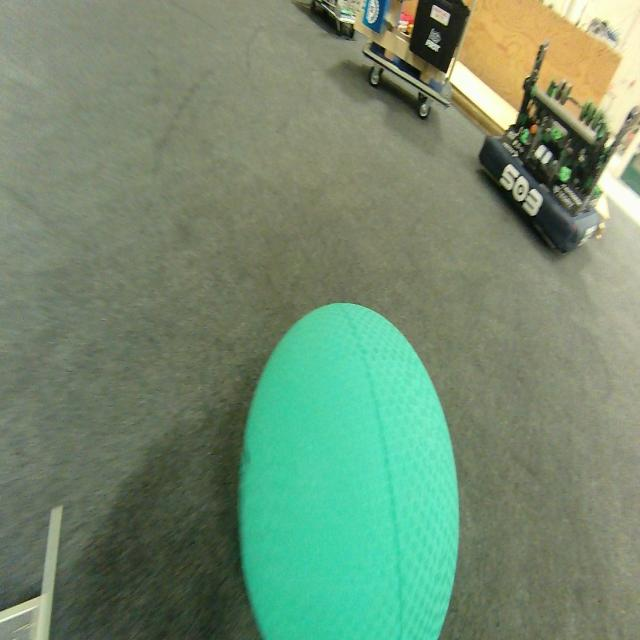algae: (233, 290, 471, 640)
